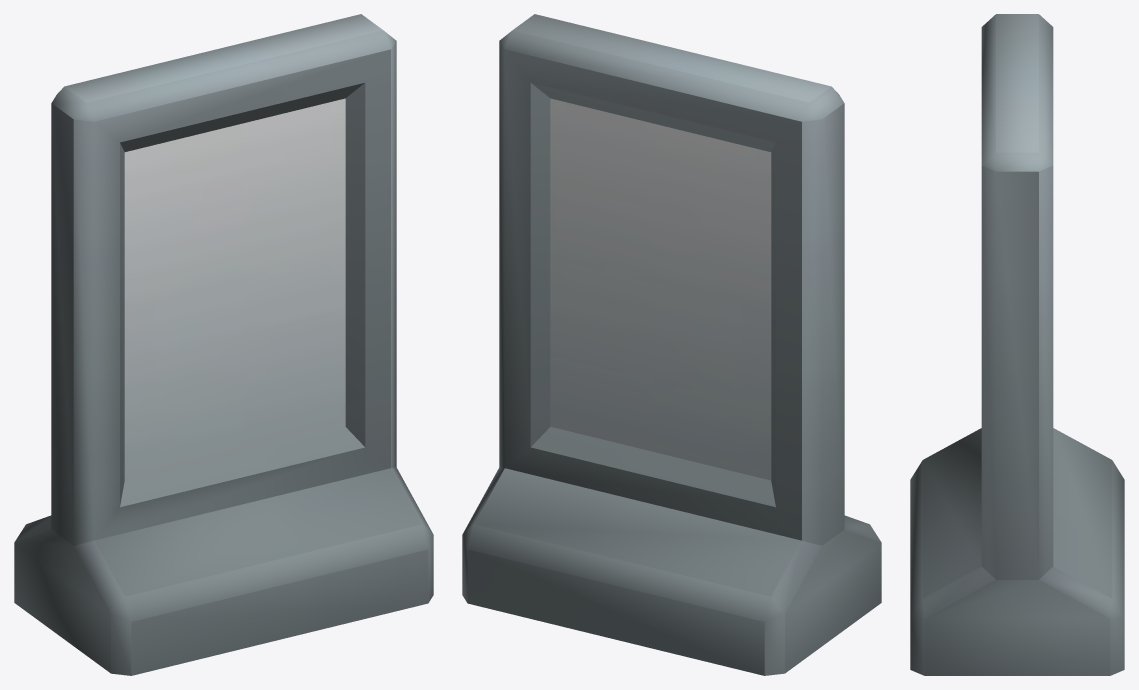
The model's file is kay-cardapio.gltf.
The picture shows the model from 3 angles, left to right: view 1: azimuth 30°, elevation 25°; view 2: azimuth 150°, elevation 25°; view 3: azimuth 270°, elevation 25°; orthographic projection. The views are drawn at different scales.
Visible parts, largest first — view 1: menu; view 2: menu; view 3: menu.
Part boxes in pixels (x1=…): menu: x1=14, y1=14, x2=433, y2=675; menu: x1=462, y1=14, x2=881, y2=675; menu: x1=910, y1=14, x2=1124, y2=675.
Bounding box in the file's own units: 0.325 × 0.52 × 0.195.
Materials: 1 (1 with a texture image).
